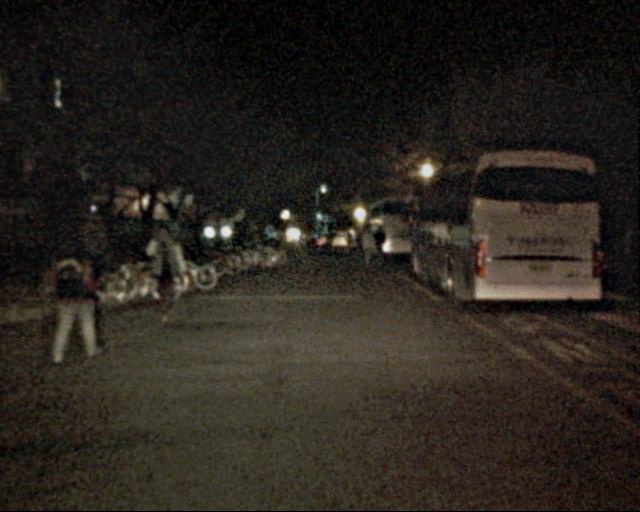person: (48, 223, 112, 363), (145, 222, 187, 324), (350, 228, 387, 266)
